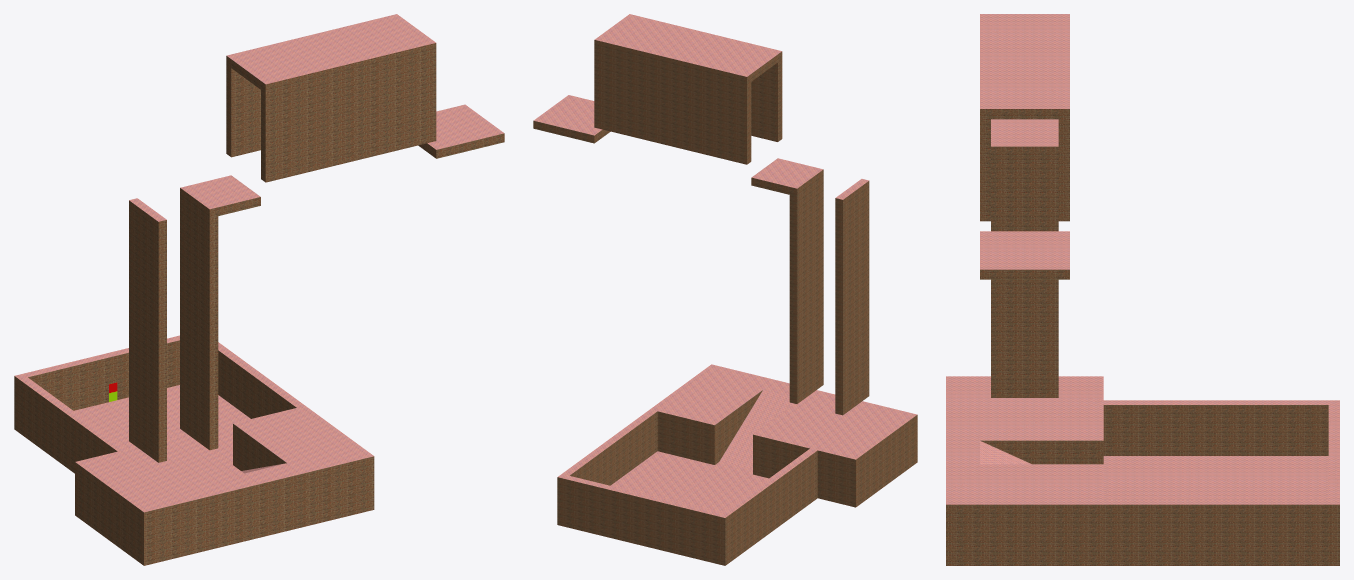
The model's file is example.obj.
3 views of the same model, side by side, from view 1: azimuth 30°, elevation 25°; view 2: azimuth 150°, elevation 25°; view 3: azimuth 270°, elevation 25° (orthographic). The views are drawn at different scales.
Visible parts, largest first — view 1: example-SKP-Brick_Antique_01, example-SKP-Brick_Basket; view 2: example-SKP-Brick_Antique_01, example-SKP-Brick_Basket; view 3: example-SKP-Brick_Antique_01, example-SKP-Brick_Basket.
Boxes of the visible parts, bbox=[...] form: example-SKP-Brick_Antique_01: bbox=[14, 43, 504, 565]; example-SKP-Brick_Basket: bbox=[14, 14, 503, 512]; example-SKP-Brick_Antique_01: bbox=[533, 40, 917, 565]; example-SKP-Brick_Basket: bbox=[534, 14, 917, 517]; example-SKP-Brick_Antique_01: bbox=[946, 109, 1339, 565]; example-SKP-Brick_Basket: bbox=[946, 14, 1339, 504].
Size of what is drawn, in the model's own units: 44 by 49 by 35.
Materials: 4 (4 with a texture image).
